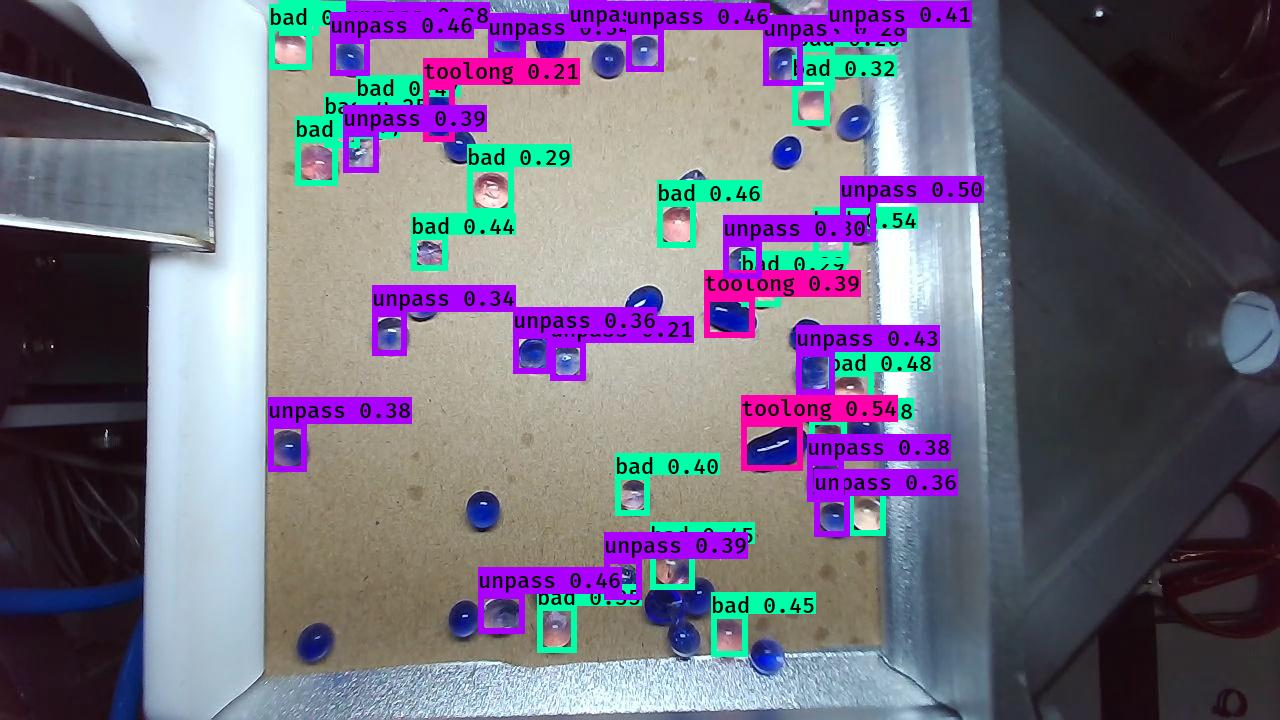bad: (649, 545, 695, 590), (295, 143, 342, 187), (469, 171, 514, 214), (658, 197, 699, 242), (797, 86, 836, 130), (272, 29, 313, 70), (706, 617, 747, 658), (845, 496, 886, 536), (359, 101, 395, 142), (538, 611, 574, 652), (799, 50, 836, 89), (814, 229, 852, 266), (409, 239, 451, 272), (743, 273, 780, 310), (832, 374, 871, 409), (614, 478, 651, 513), (282, 1, 319, 35), (329, 118, 365, 152), (811, 426, 845, 459)
defact: (669, 167, 708, 202)
pass: (620, 285, 667, 330), (296, 622, 336, 665), (530, 567, 569, 611), (643, 587, 686, 626), (847, 410, 882, 456), (767, 132, 805, 174), (465, 489, 502, 532), (835, 102, 872, 144), (446, 597, 481, 641), (537, 303, 575, 341), (441, 128, 481, 164), (534, 22, 569, 62), (788, 315, 825, 352), (667, 623, 703, 660), (686, 574, 715, 619), (834, 42, 863, 84), (590, 43, 625, 77)
toolong: (740, 423, 808, 472), (702, 294, 758, 337), (418, 85, 456, 142)
unpass: (267, 428, 313, 473), (792, 351, 837, 395), (831, 3, 878, 45), (481, 591, 522, 637), (370, 316, 410, 358), (343, 1, 385, 40), (624, 32, 662, 74), (748, 634, 786, 676), (808, 462, 845, 502), (401, 284, 439, 322), (332, 40, 369, 79), (490, 17, 526, 57), (517, 333, 552, 373), (573, 4, 608, 43), (817, 496, 853, 533), (345, 137, 382, 173), (549, 343, 585, 380), (842, 209, 876, 248), (799, 388, 835, 424), (607, 562, 641, 599), (726, 247, 760, 282), (767, 44, 797, 83)
